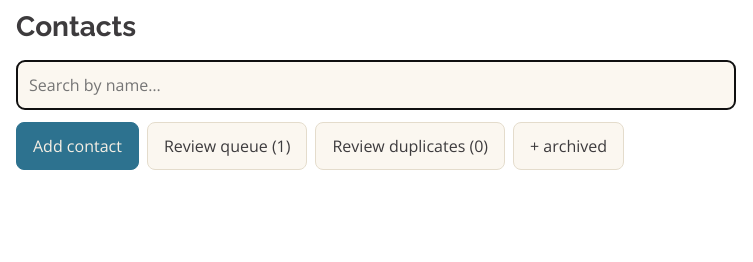
Test: contacts review queue — rows show and adapt (feature 069) › shows how the contact is reached and how old the record is
What coordinates should you click on to do the following:
click the button "Review queue (1)"
I would click on:
 (227, 146)
Its box is [147, 122, 308, 170].
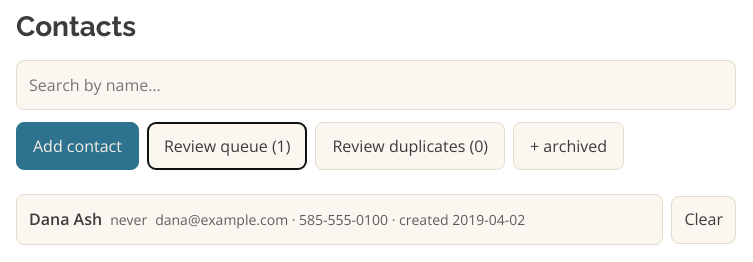
Check: the text "dana@example.com · 585-555-0100 · created 2019-04-02" is shown, box [155, 209, 525, 231]
